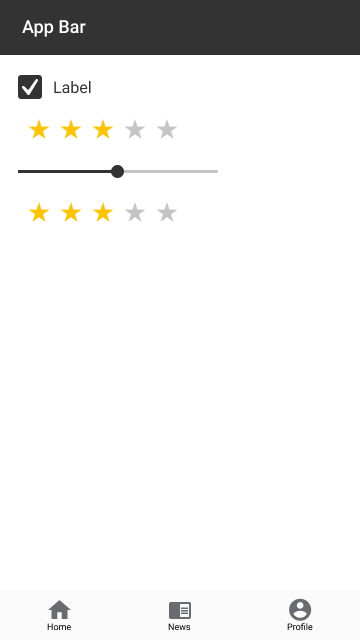checkBox: (15, 73, 97, 101)
navigationButton: (1, 592, 360, 640)
ratingBar: (26, 115, 184, 146), (28, 203, 181, 224)
slider1: (15, 162, 223, 179)
toolbar: (1, 1, 359, 56)
